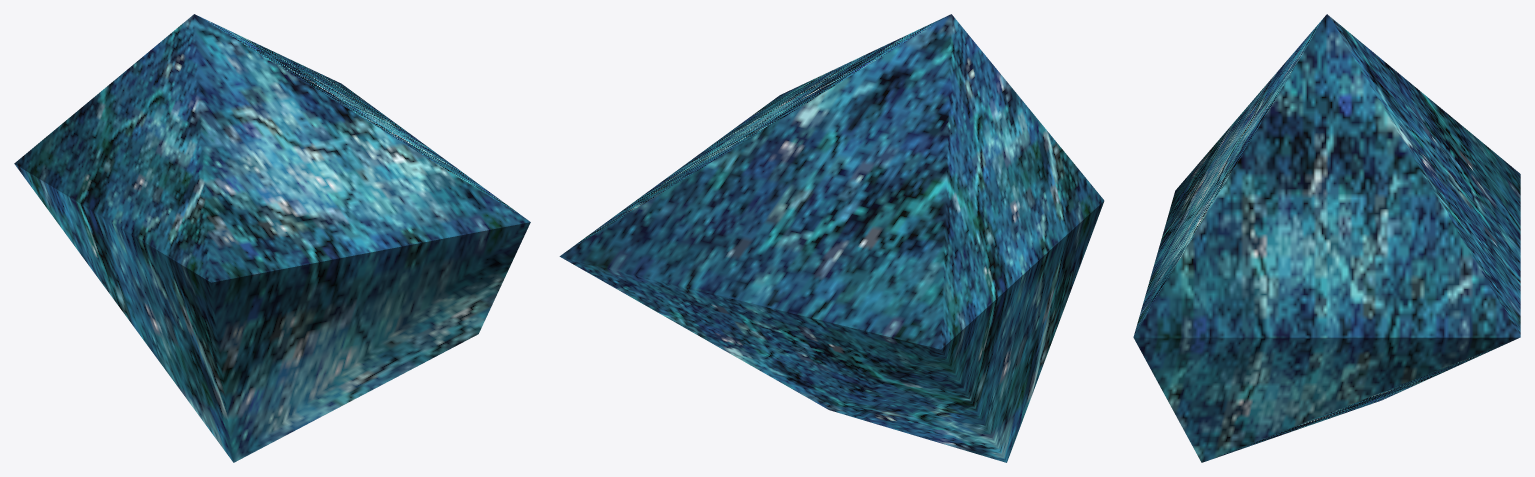
The model's file is cef_cryoban_grenade_shard.fbx.
The picture shows the model from 3 angles, left to right: view 1: azimuth 30°, elevation 25°; view 2: azimuth 150°, elevation 25°; view 3: azimuth 270°, elevation 25°; orthographic projection. The views are drawn at different scales.
Visible parts, largest first — view 1: mesh_node; view 2: mesh_node; view 3: mesh_node.
Boxes of the visible parts, x1,y1,x2,y2 form: mesh_node: (14, 14, 530, 462); mesh_node: (559, 14, 1104, 462); mesh_node: (1133, 14, 1520, 462).
Bounding box in the file's own units: 0.384 × 0.4662 × 0.384.
1 material, 1 textured.
